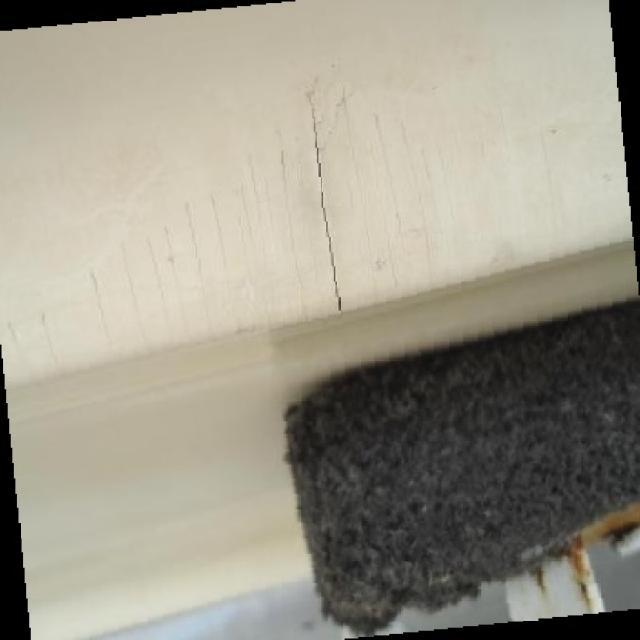crack: (310, 94, 343, 311)
